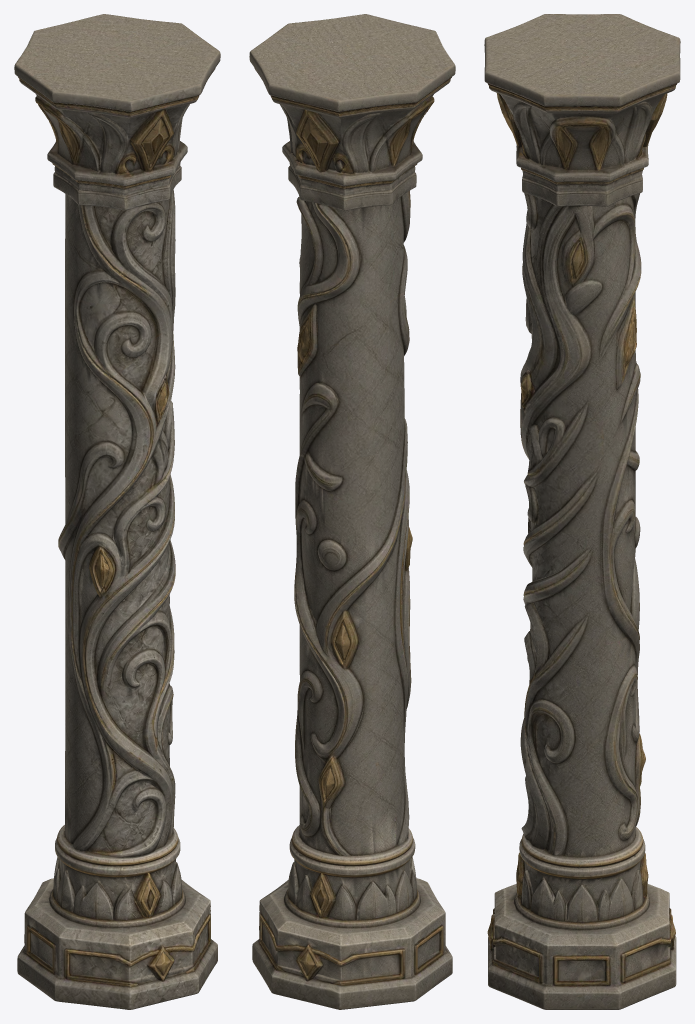
File: Meshy_AI_A_single_standalone_m_0823050533_texture.glb
3 views of the same model, side by side, from view 1: azimuth 30°, elevation 25°; view 2: azimuth 150°, elevation 25°; view 3: azimuth 270°, elevation 25° (orthographic).
Parts seen in each view (by area): view 1: mesh_node; view 2: mesh_node; view 3: mesh_node.
Part boxes in pixels (bbox=[...]): mesh_node: bbox=[14, 14, 220, 1009]; mesh_node: bbox=[249, 14, 455, 1009]; mesh_node: bbox=[484, 14, 680, 1009].
Bounding box in the file's own units: 0.3682 × 1.9 × 0.3691.
1 material, 1 textured.
